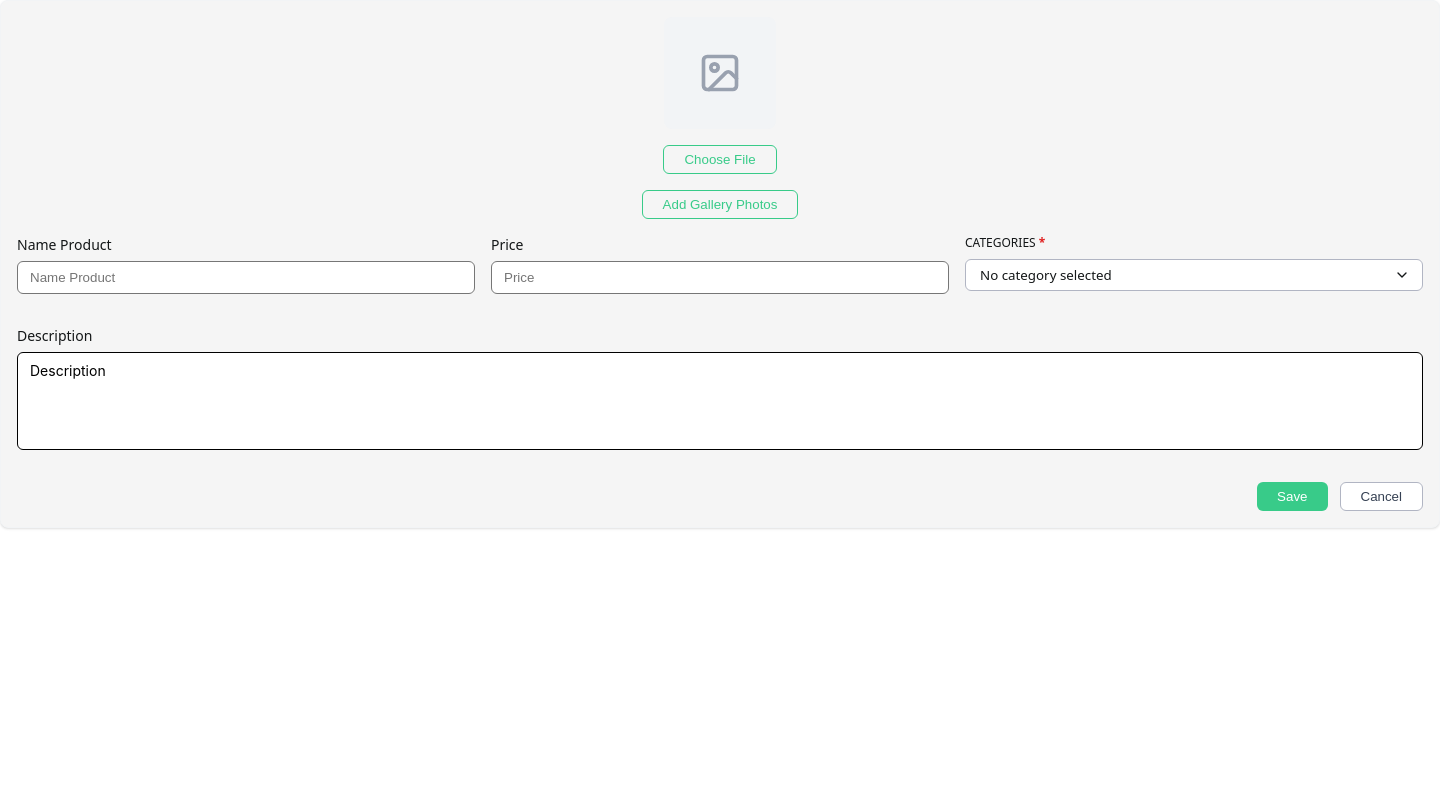
Test: Component: ProductForm › should show validation errors for required fields on submit
Step 1. Click the button "Save" → (1292, 496), box top-left (1257, 482), bottom-right (1328, 511)
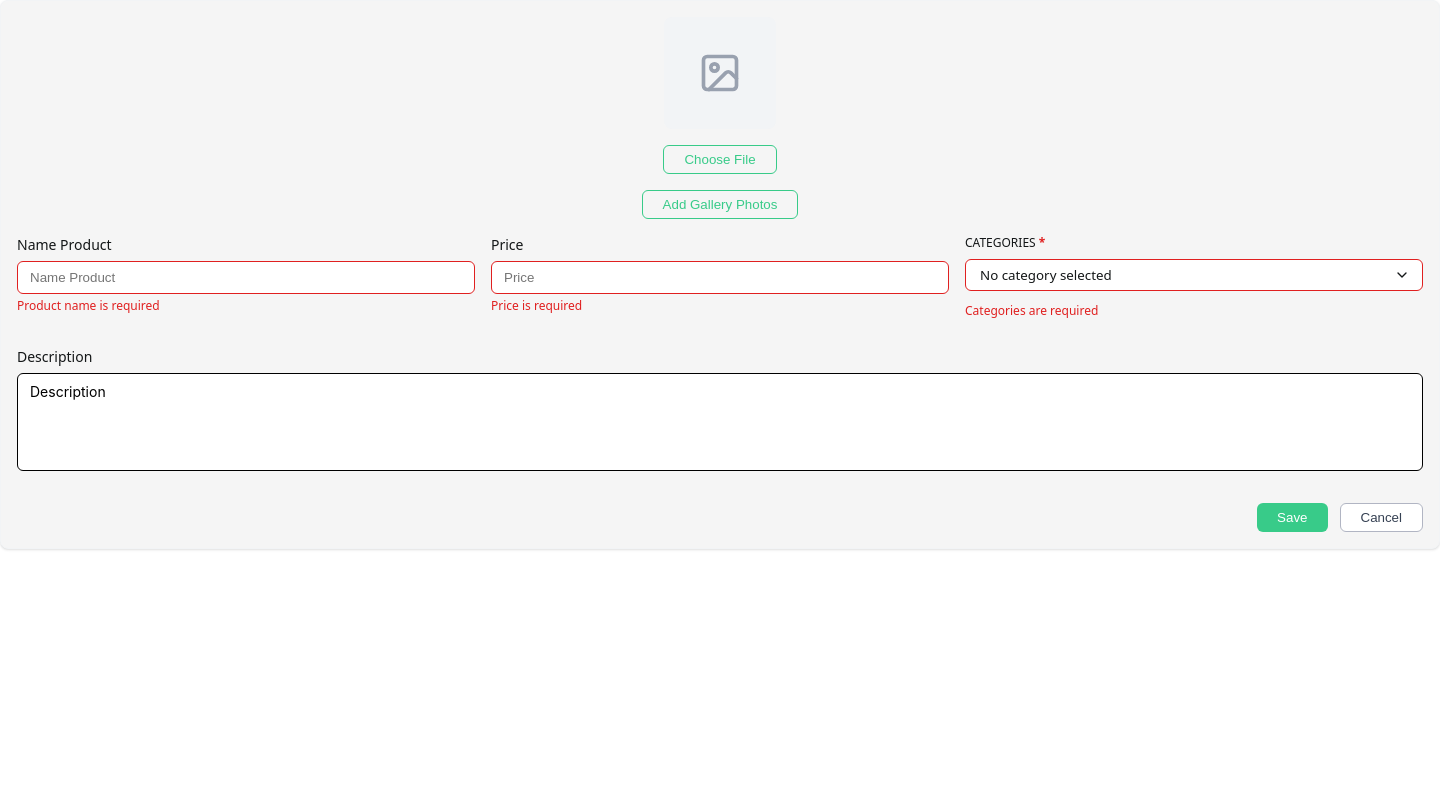
Check: the text "Product name is required" is shown, box top-left (17, 297), bottom-right (160, 314)
Check: the text "Price is required" is shown, box top-left (491, 297), bottom-right (582, 314)
